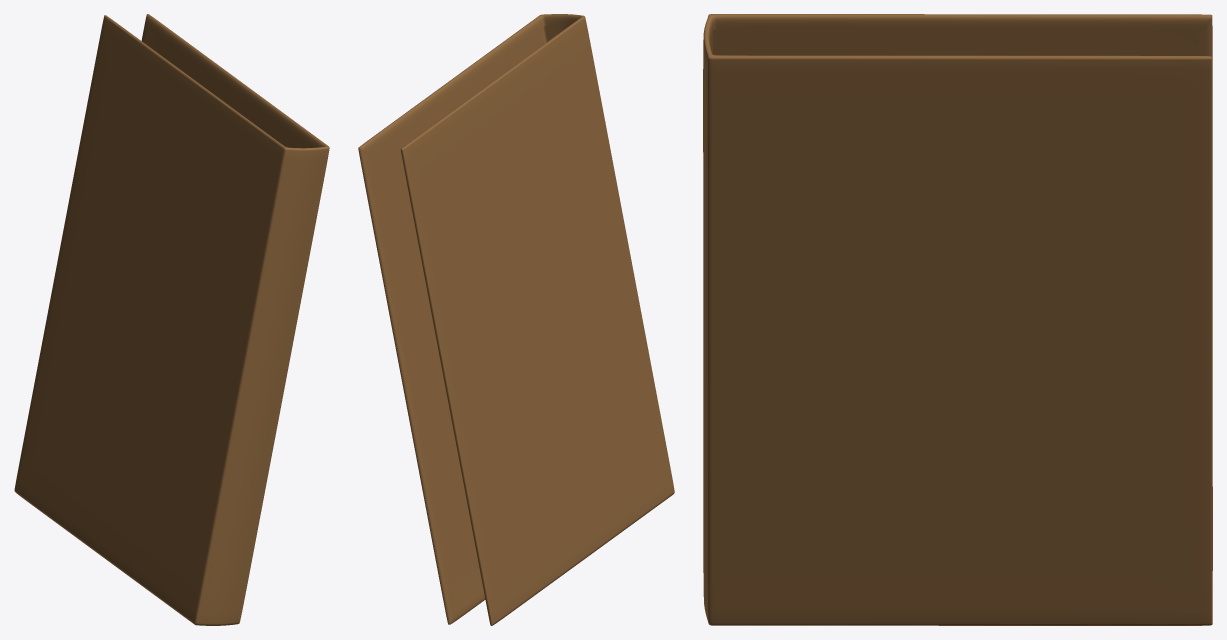
Rendered from object_124_lev1.glb.
3 views of the same model, side by side, from view 1: azimuth 30°, elevation 25°; view 2: azimuth 150°, elevation 25°; view 3: azimuth 270°, elevation 25° (orthographic). The views are drawn at different scales.
Parts seen in each view (by area): view 1: object_124_lev1; view 2: object_124_lev1; view 3: object_124_lev1.
Part boxes in pixels (x1,y1,x2,y2): object_124_lev1: (14,14,329,625); object_124_lev1: (358,14,674,625); object_124_lev1: (703,14,1212,625).
Bounding box in the file's own units: 0.0633 × 0.208 × 0.1494.
